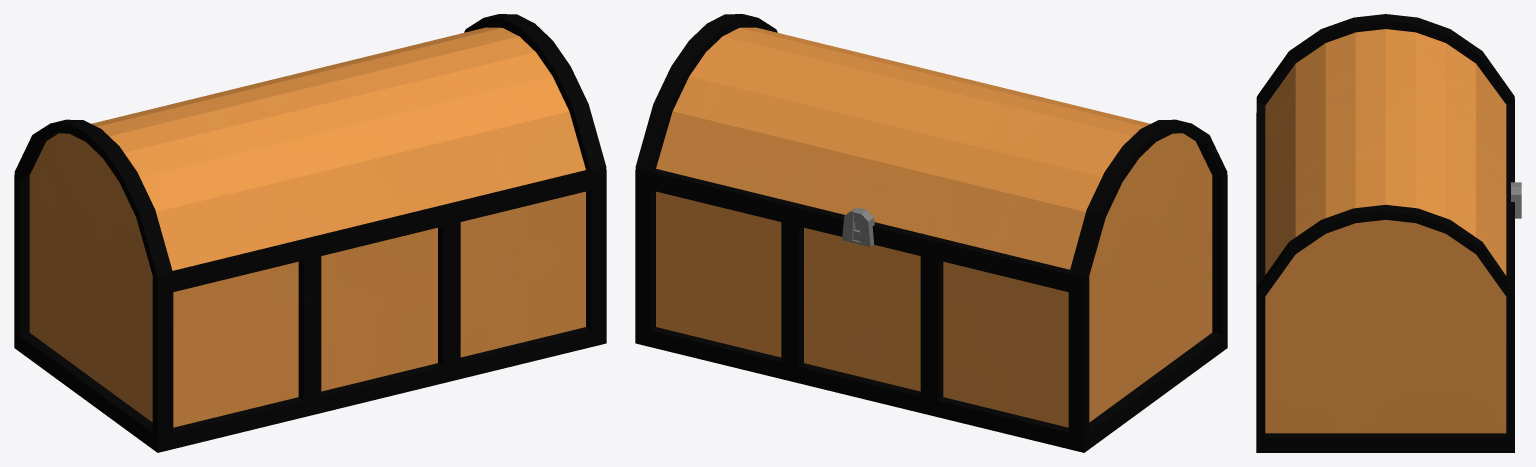
Rendered from Chest_1.fbx.
3 views of the same model, side by side, from view 1: azimuth 30°, elevation 25°; view 2: azimuth 150°, elevation 25°; view 3: azimuth 270°, elevation 25° (orthographic). The views are drawn at different scales.
Visible parts, largest first — view 1: Chest 1; view 2: Chest 1; view 3: Chest 1.
Part boxes in pixels (x1,y1,x2,y2): Chest 1: (14,14,606,452); Chest 1: (635,14,1227,452); Chest 1: (1256,14,1521,452).
Size of the model in its own units: 104 by 59.21 by 58.94.
